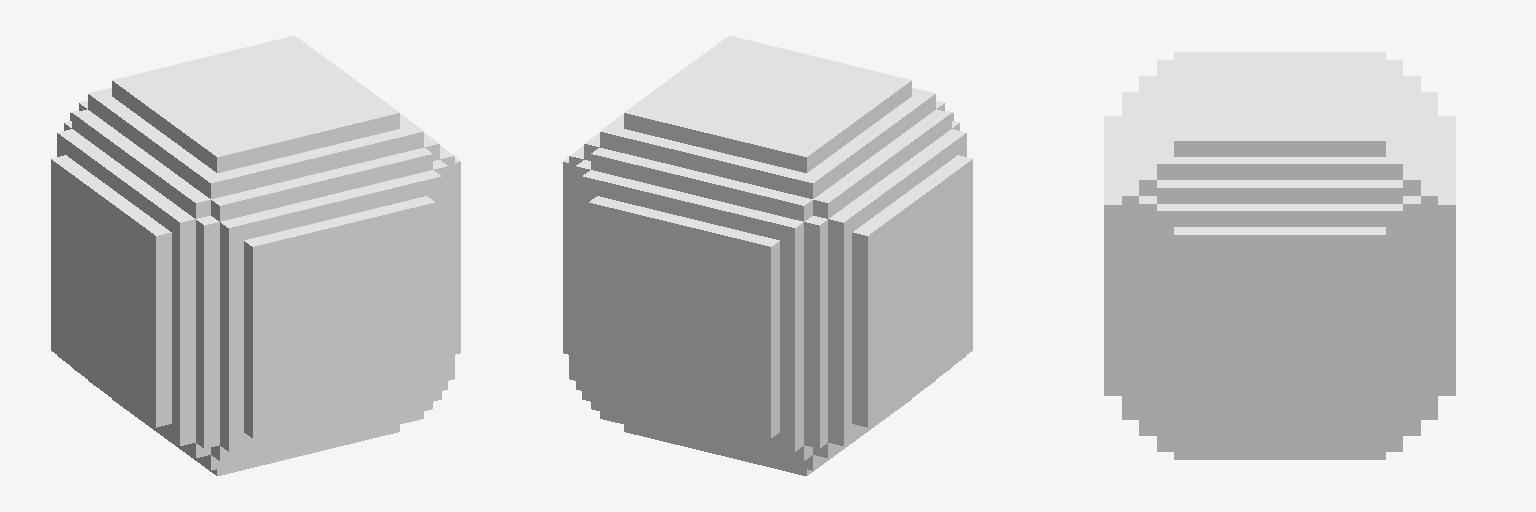
The model's file is asteroid1.obj.
3 views of the same model, side by side, from view 1: azimuth 30°, elevation 25°; view 2: azimuth 150°, elevation 25°; view 3: azimuth 270°, elevation 25° (orthographic).
Parts seen in each view (by area): view 1: object 1; view 2: object 1; view 3: object 1.
Part boxes in pixels (x1,y1,x2,y2): object 1: (51,36,460,475); object 1: (563,36,972,475); object 1: (1104,52,1455,459).
Bounding box in the file's own units: 2 × 2 × 2.